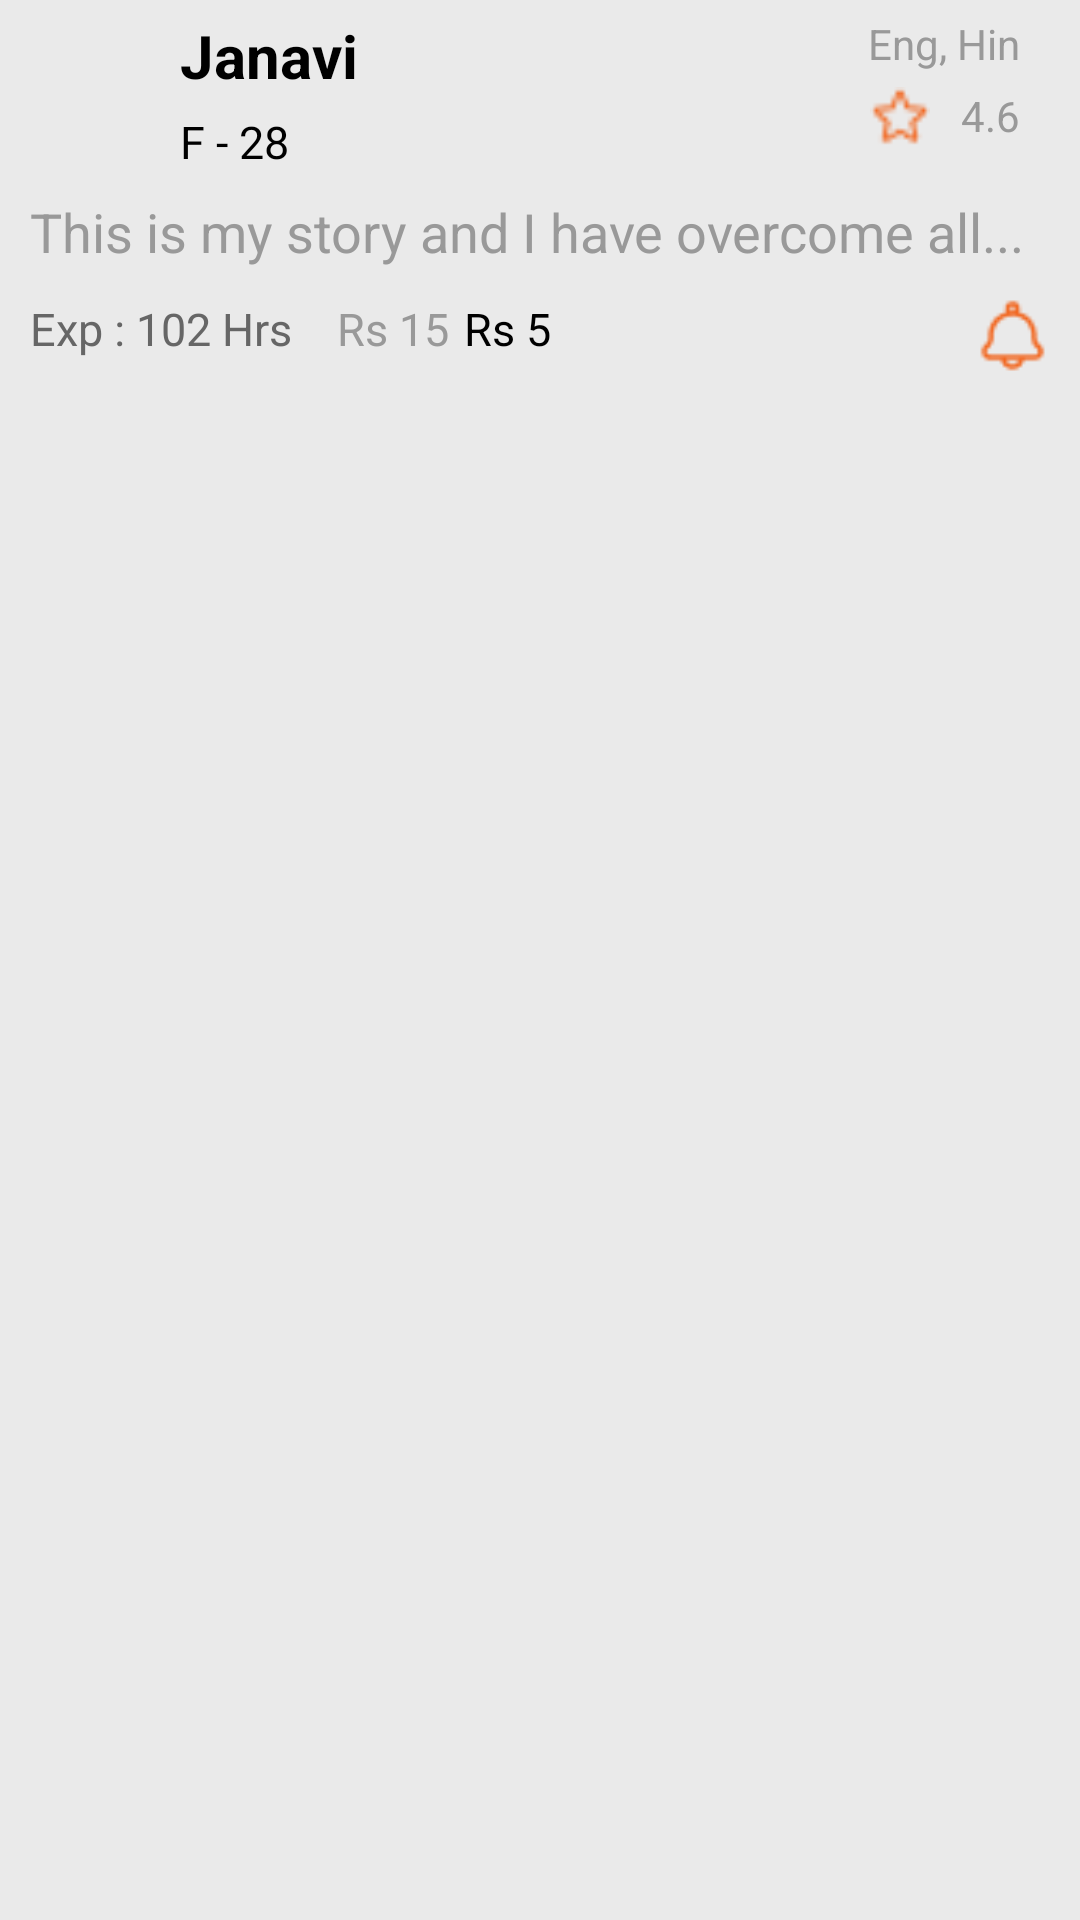

Screen size 1080x1920. Icon name, then its center in pixels as (x,y):
notification: (1012,335)
star: (901,116)
